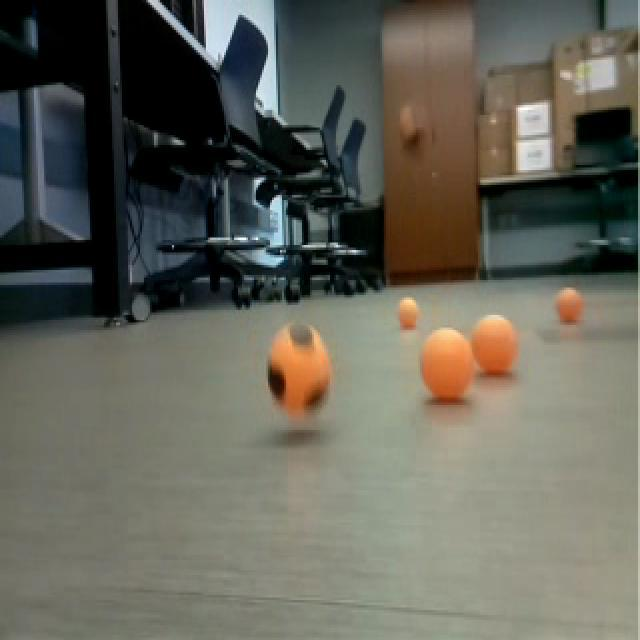oball: (420, 322, 475, 402), (472, 309, 518, 372), (556, 280, 585, 330), (396, 294, 419, 326)
